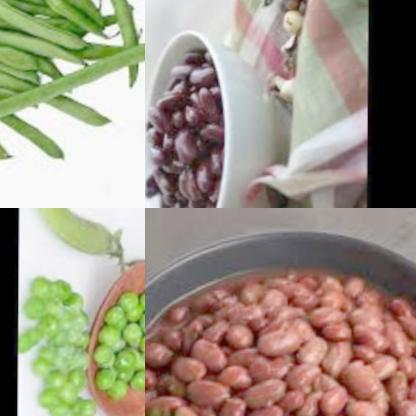fasol: (145, 245, 416, 416), (0, 0, 145, 182), (145, 48, 224, 208)
peas: (18, 273, 101, 416), (20, 208, 130, 268), (102, 289, 145, 404)
